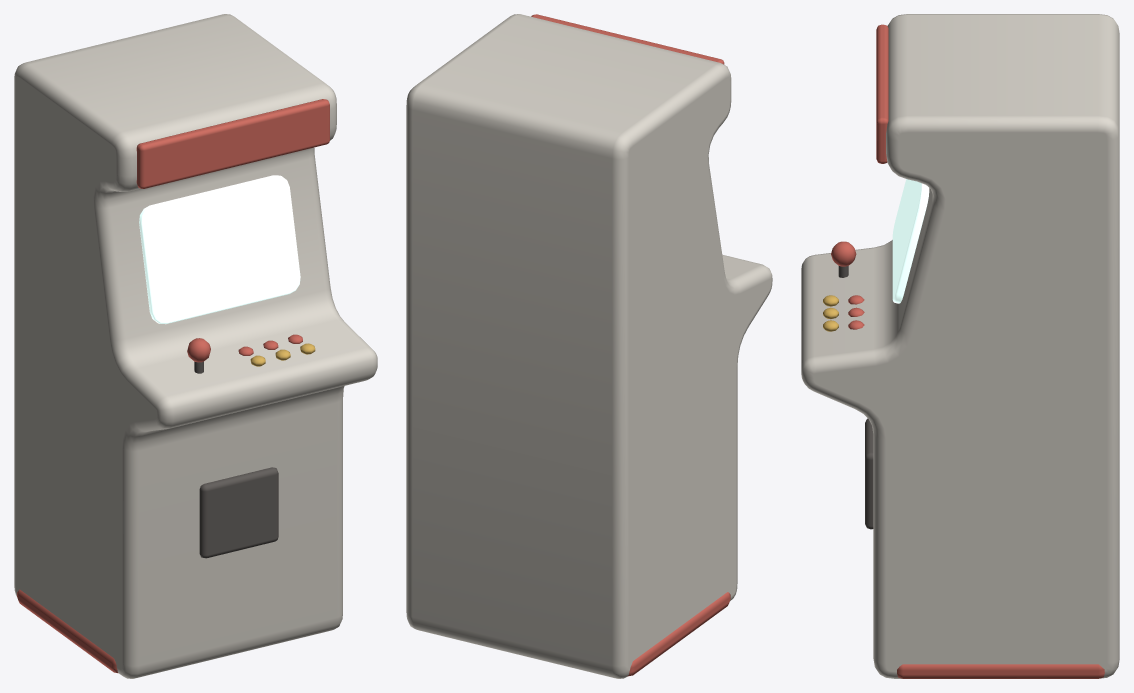
The model's file is arcade_cabinet_red.glb.
3 views of the same model, side by side, from view 1: azimuth 30°, elevation 25°; view 2: azimuth 150°, elevation 25°; view 3: azimuth 270°, elevation 25° (orthographic). The views are drawn at different scales.
Parts seen in each view (by area): view 1: arcade_cabinet_red_mesh; view 2: arcade_cabinet_red_mesh; view 3: arcade_cabinet_red_mesh.
Boxes of the visible parts, x1,y1,x2,y2 form: arcade_cabinet_red_mesh: (14, 14, 377, 678); arcade_cabinet_red_mesh: (406, 14, 772, 678); arcade_cabinet_red_mesh: (801, 14, 1119, 678).
Bounding box in the file's own units: 0.632 × 1.46 × 0.75.
